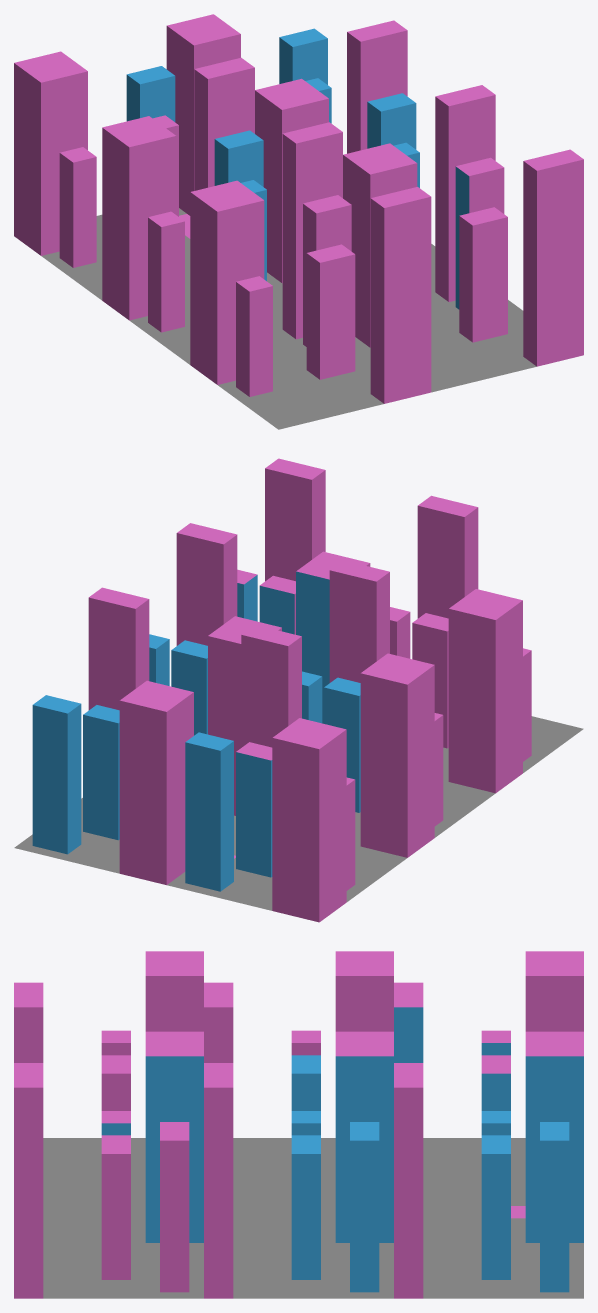
3 renders of one model, top to bottom at view 1: azimuth 30°, elevation 25°; view 2: azimuth 150°, elevation 25°; view 3: azimuth 270°, elevation 25°, orthographic. The views are drawn at different scales.
Visible parts, largest first — view 1: Scene; view 2: Scene; view 3: Scene.
Part boxes in pixels (box(x1,y1,x2,y2)): Scene: box(14, 14, 583, 429); Scene: box(14, 458, 583, 922); Scene: box(14, 951, 583, 1298).
Size of the model in its own units: 120 by 73.52 by 180.
